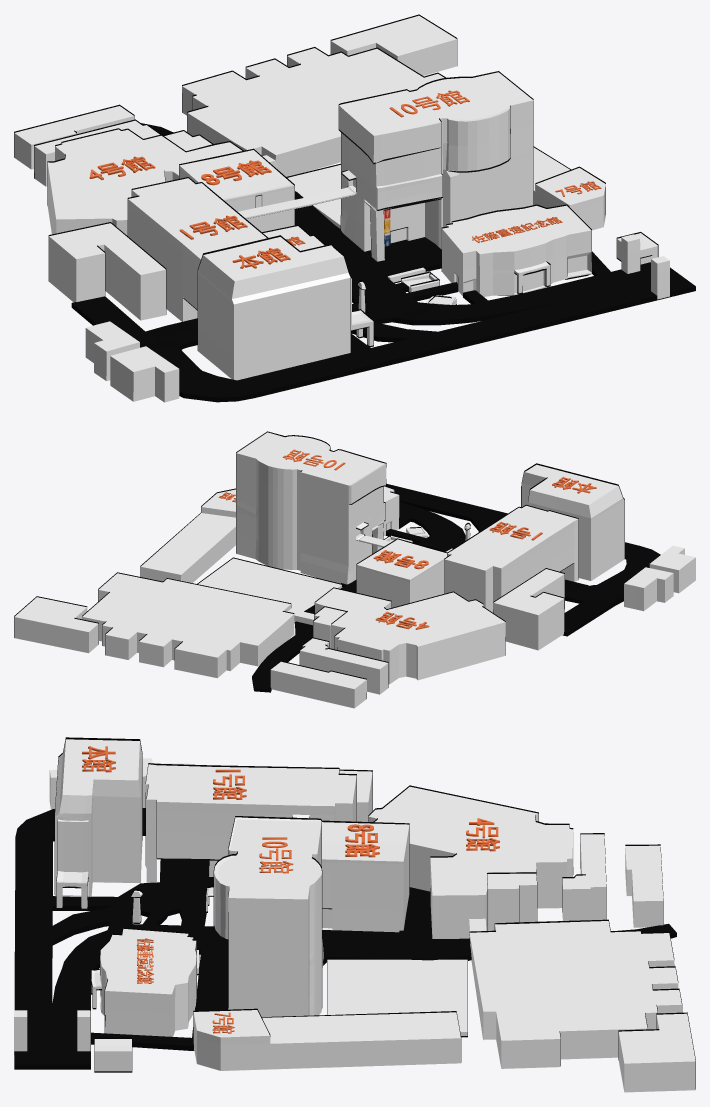
Rendered from 20260222_WEB_MejiroUni_MatMap.glb.
The picture shows the model from 3 angles, top to bottom: view 1: azimuth 30°, elevation 25°; view 2: azimuth 150°, elevation 25°; view 3: azimuth 270°, elevation 25°; orthographic projection. The views are drawn at different scales.
Visible parts, largest first — view 1: Ent, Road, Text, Text.007, Text.002, Text.003, Text.005; view 2: Ent, Road, Text, Text.007, Text.002; view 3: Ent, Road, Text, Text.002, Text.003, Text.007, Text.005, Text.004.
Part boxes in pixels (x1,y1,x2,y2): Ent: (14, 14, 669, 402); Road: (71, 123, 695, 402); Text: (201, 160, 271, 185); Text.007: (89, 156, 155, 179); Text.002: (389, 90, 469, 117); Text.003: (179, 215, 247, 239); Text.005: (472, 217, 562, 242); Ent: (14, 431, 695, 708); Road: (252, 483, 660, 692); Text: (373, 550, 428, 569); Text.007: (375, 611, 429, 629); Text.002: (282, 449, 345, 470); Ent: (14, 737, 695, 1092); Road: (14, 808, 676, 1069); Text: (345, 824, 379, 857); Text.002: (259, 837, 293, 873); Text.003: (213, 769, 246, 799); Text.007: (466, 818, 499, 851); Text.005: (136, 938, 153, 983); Text.004: (82, 746, 115, 772).
Size of what is drawn, in the model's own units: 264 by 58.88 by 250.
6 materials, 1 textured.
